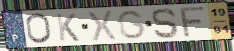F: (179, 5, 208, 39)
G: (117, 10, 147, 40)
K: (54, 12, 81, 42)
O: (25, 12, 54, 46)
S: (151, 8, 181, 40)
X: (87, 9, 118, 42)
